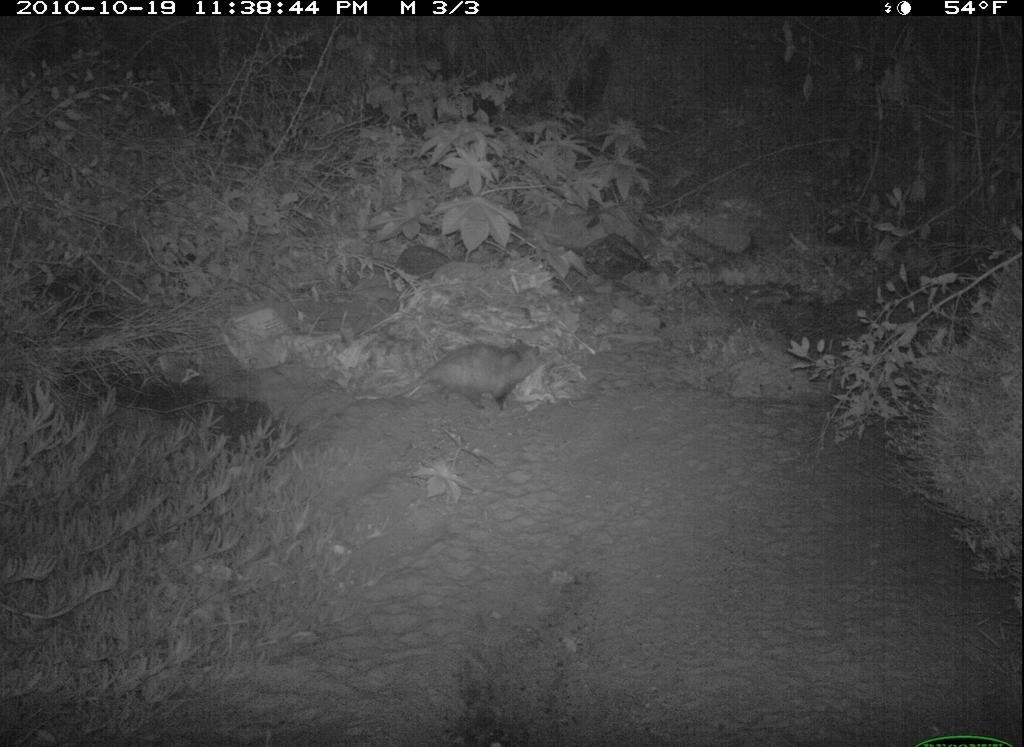opossum: (342, 337, 550, 420)
